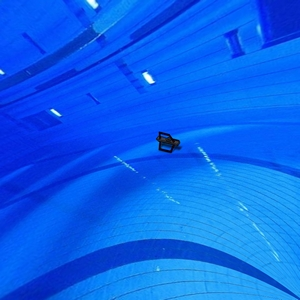submarine: (151, 131, 185, 158)
